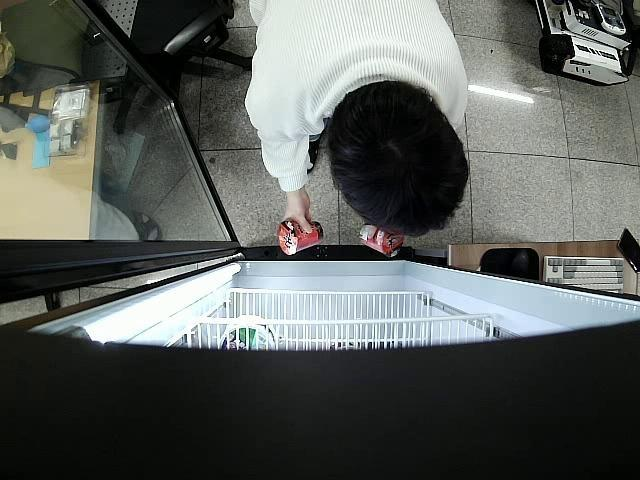02_shinRamen_S: (278, 220, 324, 256)
